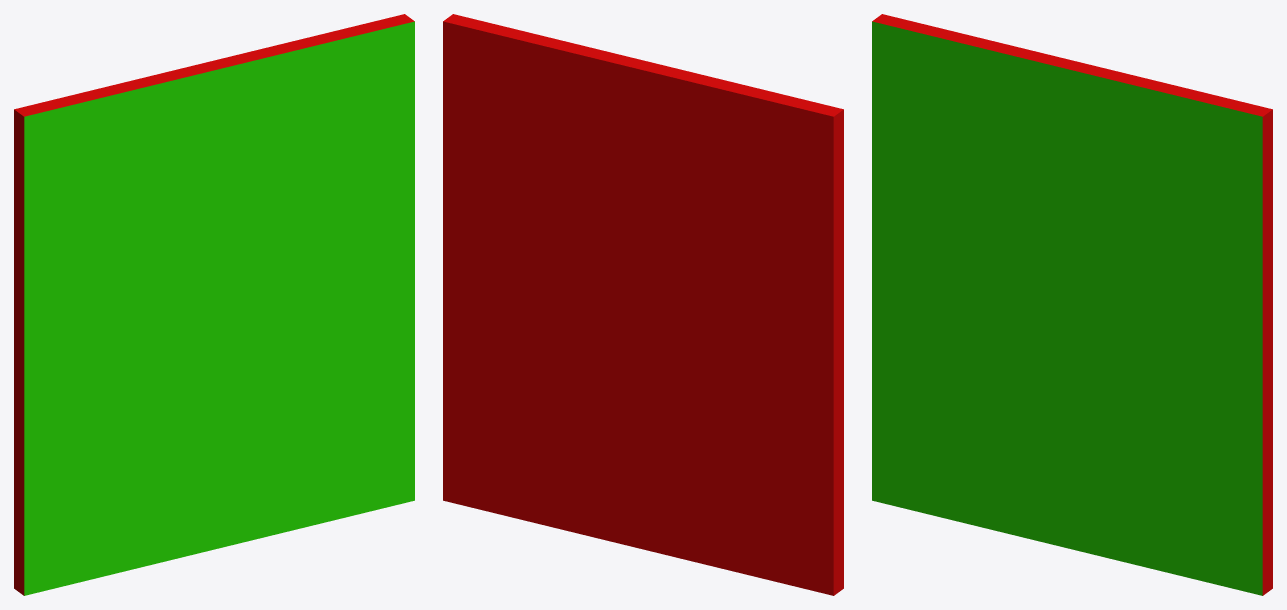
The model's file is Warehouse_03_Wall_S_03.fbx.
3 renders of one model, left to right at view 1: azimuth 30°, elevation 25°; view 2: azimuth 150°, elevation 25°; view 3: azimuth 330°, elevation 25°, orthographic.
Parts seen in each view (by area): view 1: Warehouse_03_Wall_S_03; view 2: Warehouse_03_Wall_S_03; view 3: Warehouse_03_Wall_S_03.
Boxes of the visible parts, x1,y1,x2,y2 form: Warehouse_03_Wall_S_03: (14,14,414,595); Warehouse_03_Wall_S_03: (443,14,843,595); Warehouse_03_Wall_S_03: (872,14,1272,595).
Size of the model in its own units: 440 by 515 by 19.77.
